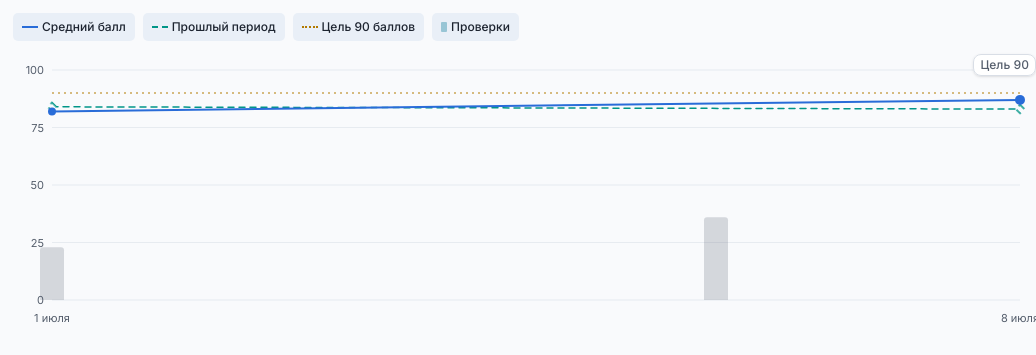
QualityTrendChart › keeps the touch selection when the gesture ends with focus inside the plot
Press the mouse on the element named "Динамика качества" at {"x": 524, "y": 194}, box [12,54,1035,334]
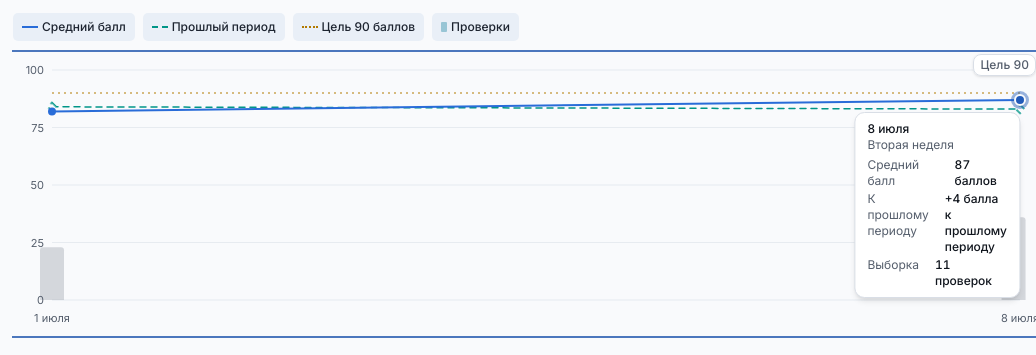
Now the tooltip is shown, box [854,112,1020,298]
